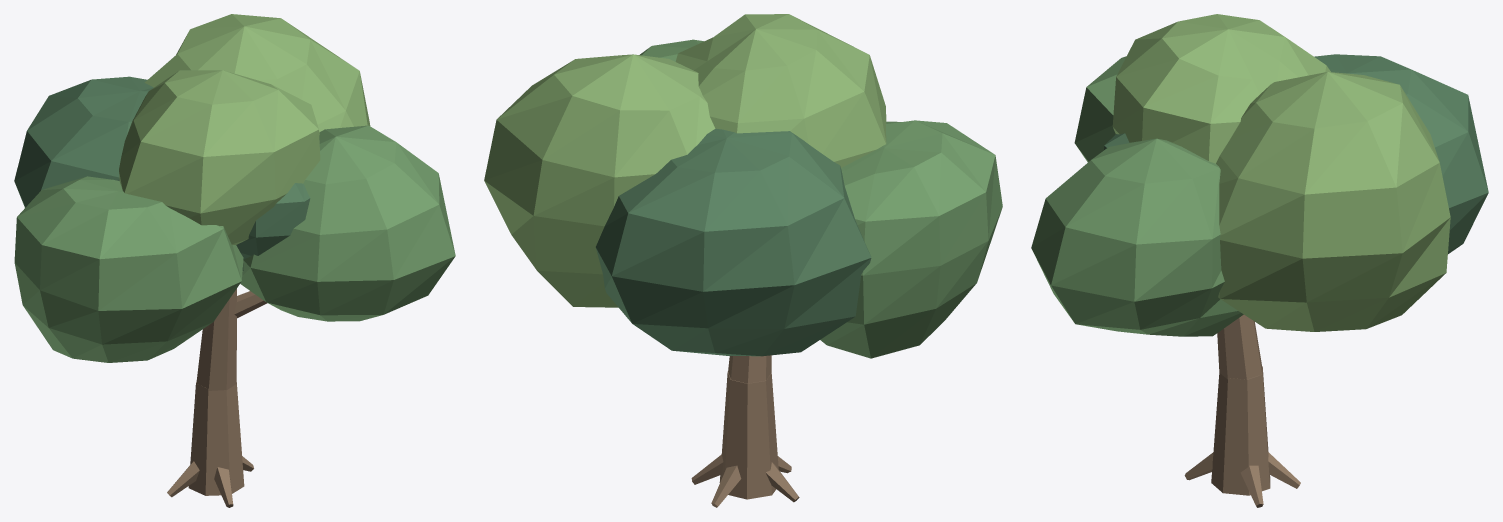
Rendered from tree_round_a.glb.
3 views of the same model, side by side, from view 1: azimuth 30°, elevation 25°; view 2: azimuth 150°, elevation 25°; view 3: azimuth 270°, elevation 25° (orthographic). The views are drawn at different scales.
Parts seen in each view (by area): view 1: tree_round_a; view 2: tree_round_a; view 3: tree_round_a.
Part boxes in pixels (box(x1,y1,x2,y2)): tree_round_a: box(14, 14, 455, 507); tree_round_a: box(484, 14, 1002, 507); tree_round_a: box(1031, 14, 1488, 507).
Size of what is drawn, in the model's own units: 4.61 by 4.87 by 4.42.
